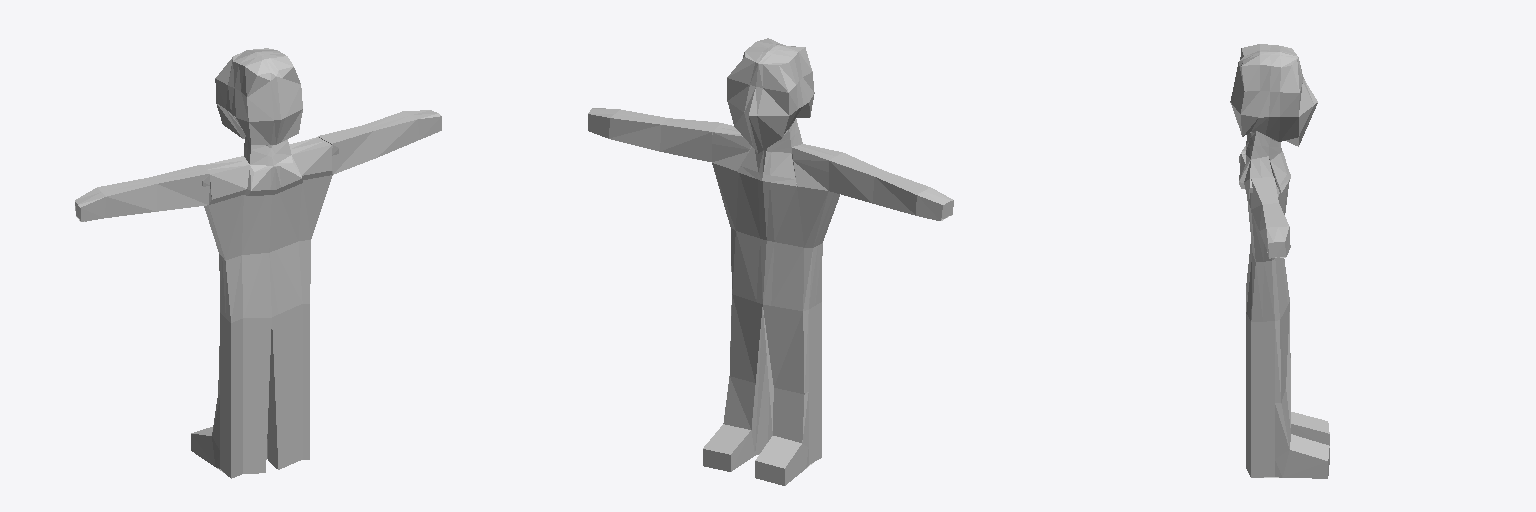
File: low poly charecter.obj
3 views of the same model, side by side, from view 1: azimuth 30°, elevation 25°; view 2: azimuth 150°, elevation 25°; view 3: azimuth 270°, elevation 25° (orthographic).
Parts seen in each view (by area): view 1: Cube; view 2: Cube; view 3: Cube.
Boxes of the visible parts, x1=… form: Cube: x1=75, y1=48, x2=441, y2=478; Cube: x1=588, y1=38, x2=953, y2=485; Cube: x1=1230, y1=44, x2=1329, y2=478.
Size of the model in its own units: 14.58 by 15.74 by 3.47.